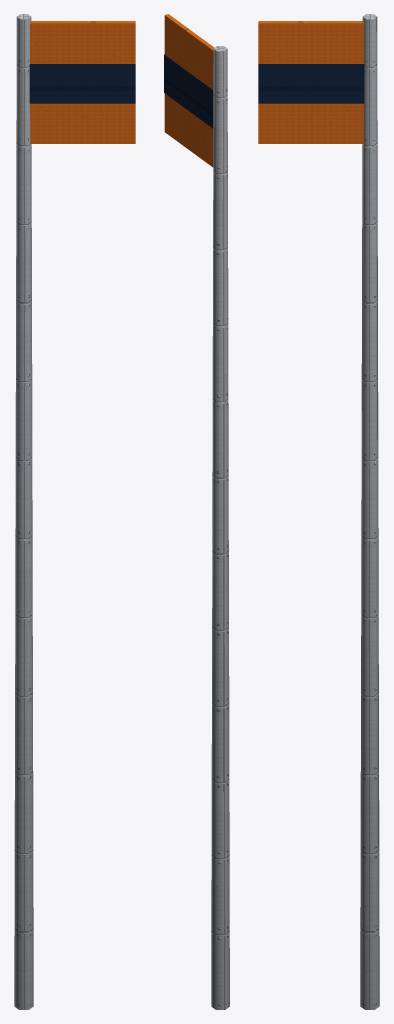
Rendered from mastro_com_bandeira.glb.
3 renders of one model, left to right at view 1: azimuth 90°, elevation 25°; view 2: azimuth 210°, elevation 25°; view 3: azimuth 270°, elevation 25°, orthographic. The views are drawn at different scales.
Parts seen in each view (by area): view 1: mastro_com_bandeira_metal, mastro_com_bandeira; view 2: mastro_com_bandeira_metal, mastro_com_bandeira; view 3: mastro_com_bandeira_metal, mastro_com_bandeira.
Part boxes in pixels (box(x1,y1,x2,y2)): mastro_com_bandeira_metal: box(14, 14, 33, 1009); mastro_com_bandeira: box(29, 21, 135, 143); mastro_com_bandeira_metal: box(211, 46, 229, 1009); mastro_com_bandeira: box(164, 14, 214, 167); mastro_com_bandeira_metal: box(360, 14, 379, 1009); mastro_com_bandeira: box(258, 21, 364, 143).
Size of the model in its own units: 0.1386 by 9 by 1.
2 materials, 2 textured.
